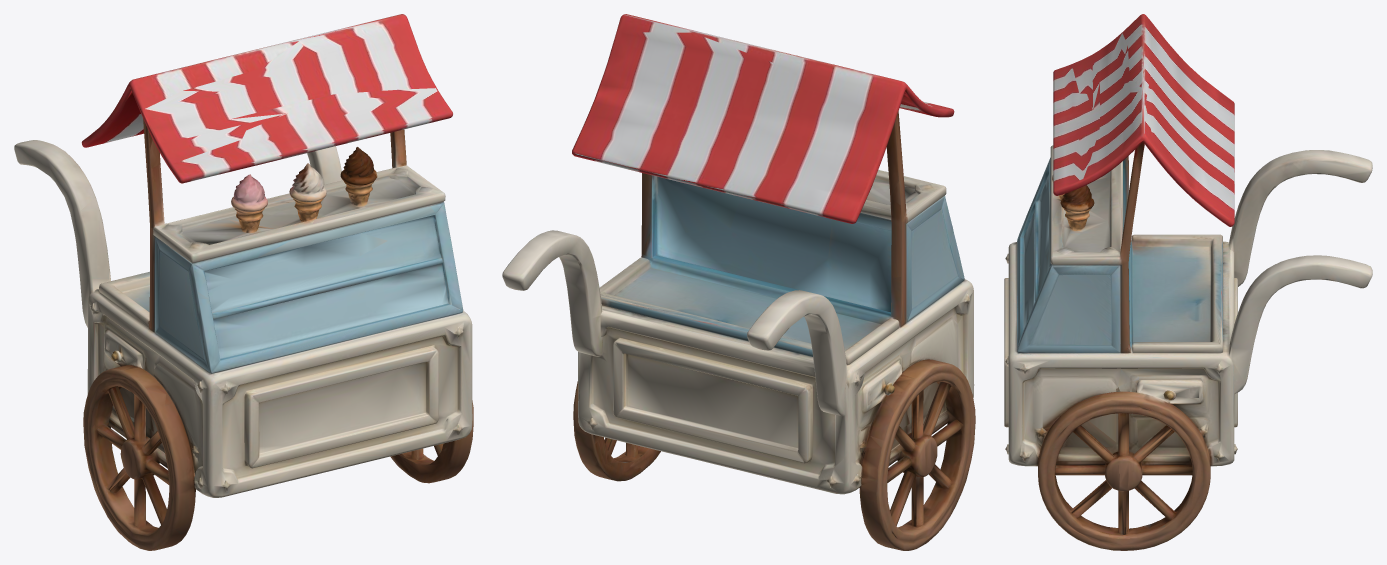
Rendered from gerobak-es-krim.glb.
3 views of the same model, side by side, from view 1: azimuth 30°, elevation 25°; view 2: azimuth 150°, elevation 25°; view 3: azimuth 270°, elevation 25° (orthographic). The views are drawn at different scales.
Parts seen in each view (by area): view 1: node_0; view 2: node_0; view 3: node_0.
Part boxes in pixels (x1=…): node_0: x1=14, y1=14, x2=473, y2=550; node_0: x1=502, y1=14, x2=975, y2=550; node_0: x1=1004, y1=14, x2=1372, y2=550.
Bounding box in the file's own units: 0.6543 × 0.9518 × 0.7706.
Materials: 1 (1 with a texture image).
